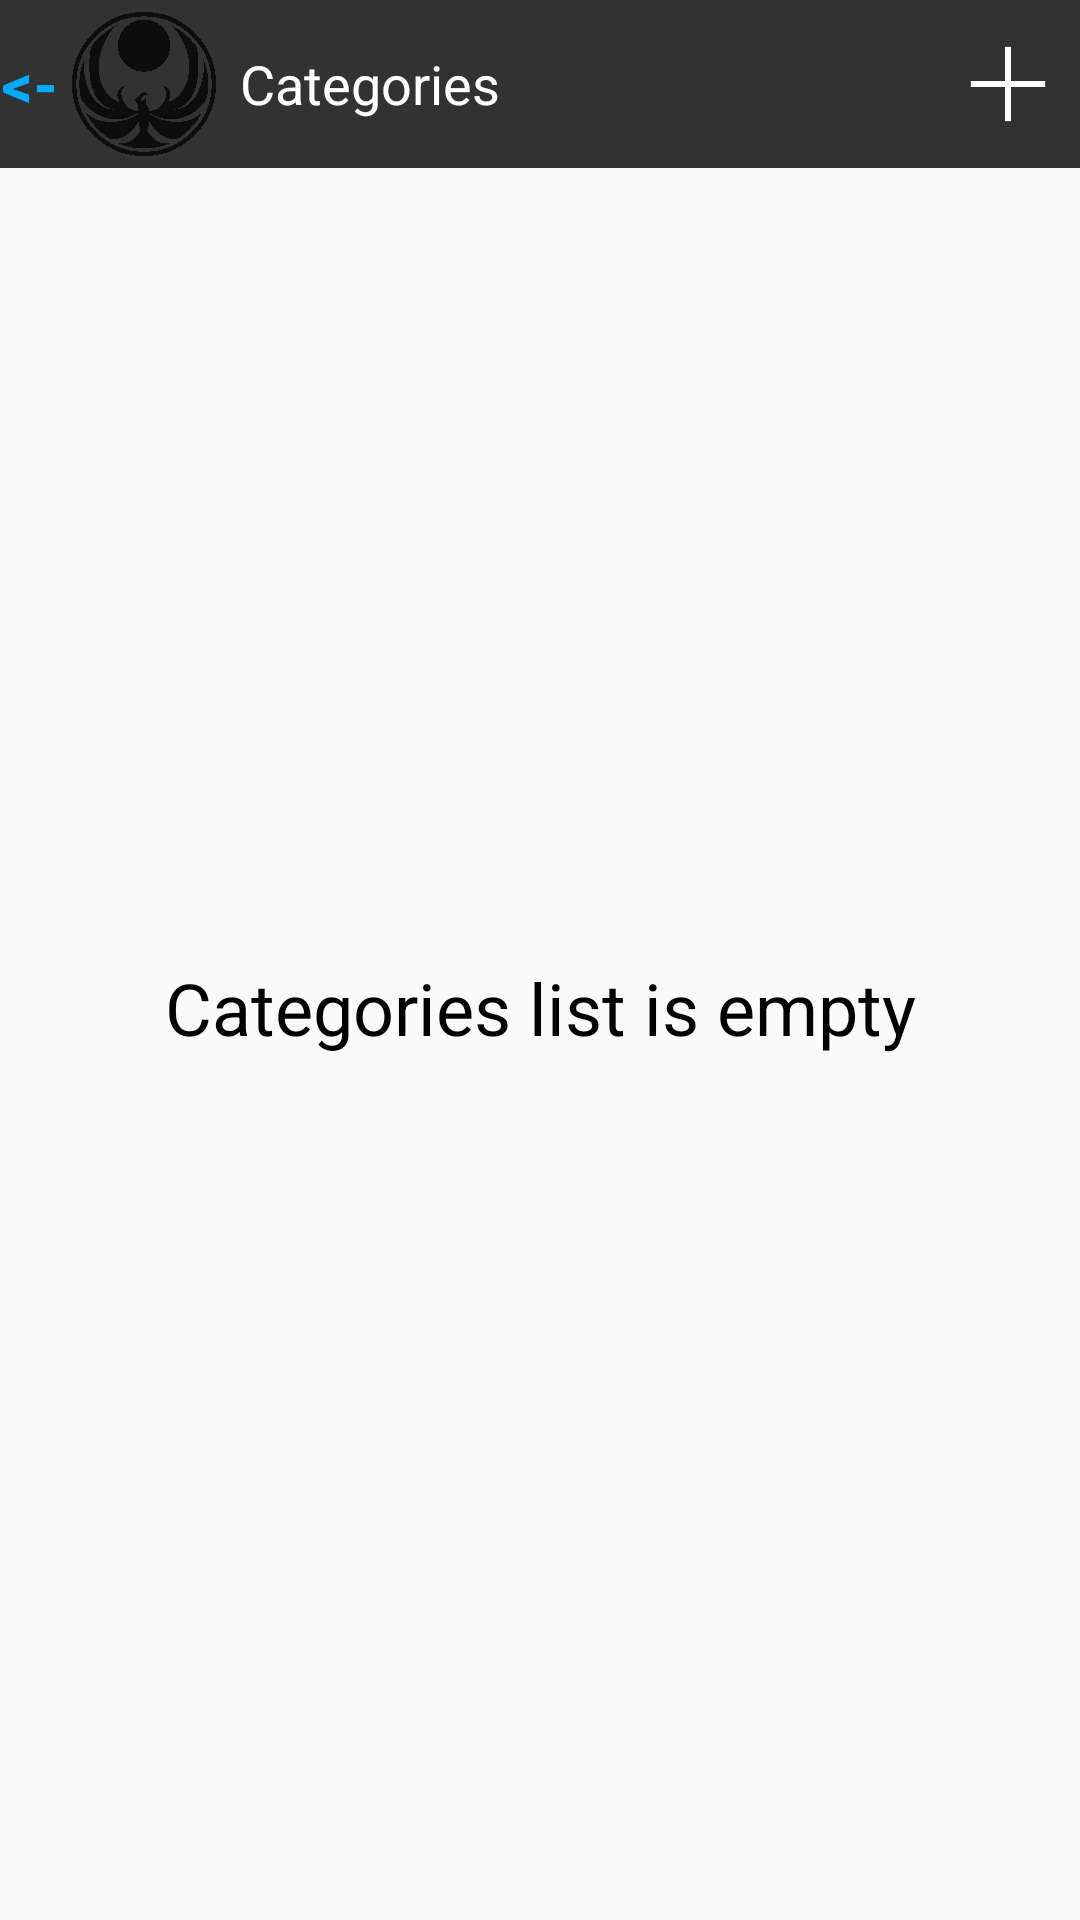

Where icons sit on this 1080 x 1920 app screen, as Rect(x1, y1, x2, y2):
plus: Rect(970, 46, 1046, 122)
